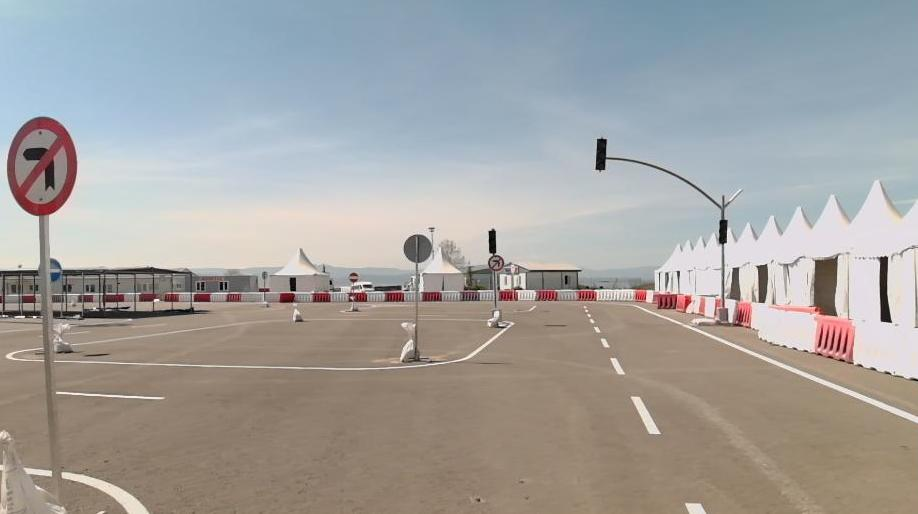nesne: (0, 303, 917, 513), (288, 302, 917, 512), (290, 303, 707, 513), (584, 303, 916, 513), (635, 305, 917, 423), (0, 288, 654, 306), (7, 115, 79, 216), (17, 357, 457, 371), (26, 468, 148, 514), (852, 317, 918, 381), (756, 308, 813, 353), (812, 314, 855, 362), (629, 394, 660, 435), (58, 391, 164, 400), (750, 302, 772, 330), (597, 288, 634, 300), (242, 292, 280, 303), (774, 305, 820, 314), (736, 302, 750, 326), (487, 254, 505, 272), (656, 294, 676, 309), (479, 290, 500, 303), (440, 290, 459, 304), (403, 289, 423, 302), (329, 291, 349, 304), (685, 501, 706, 513), (724, 298, 734, 322), (556, 288, 576, 300), (516, 289, 536, 301), (610, 357, 624, 374), (577, 288, 596, 300), (536, 289, 555, 301), (460, 290, 479, 302), (384, 290, 403, 302), (704, 297, 715, 317), (104, 293, 124, 304), (349, 292, 367, 304), (500, 289, 516, 302), (226, 291, 242, 304), (676, 295, 688, 312), (422, 291, 439, 303), (293, 292, 313, 302), (367, 291, 383, 303), (313, 290, 329, 302), (210, 292, 226, 303), (194, 292, 210, 303), (140, 294, 162, 302), (689, 295, 698, 314), (178, 292, 193, 303), (51, 294, 66, 305), (67, 293, 80, 305), (164, 292, 179, 302), (124, 294, 139, 304), (5, 295, 20, 305), (78, 294, 94, 303), (22, 294, 36, 304), (92, 293, 104, 304), (600, 336, 610, 349), (279, 292, 293, 301), (634, 289, 644, 301), (645, 290, 653, 302), (699, 295, 703, 312), (594, 325, 602, 333), (589, 317, 596, 323)
